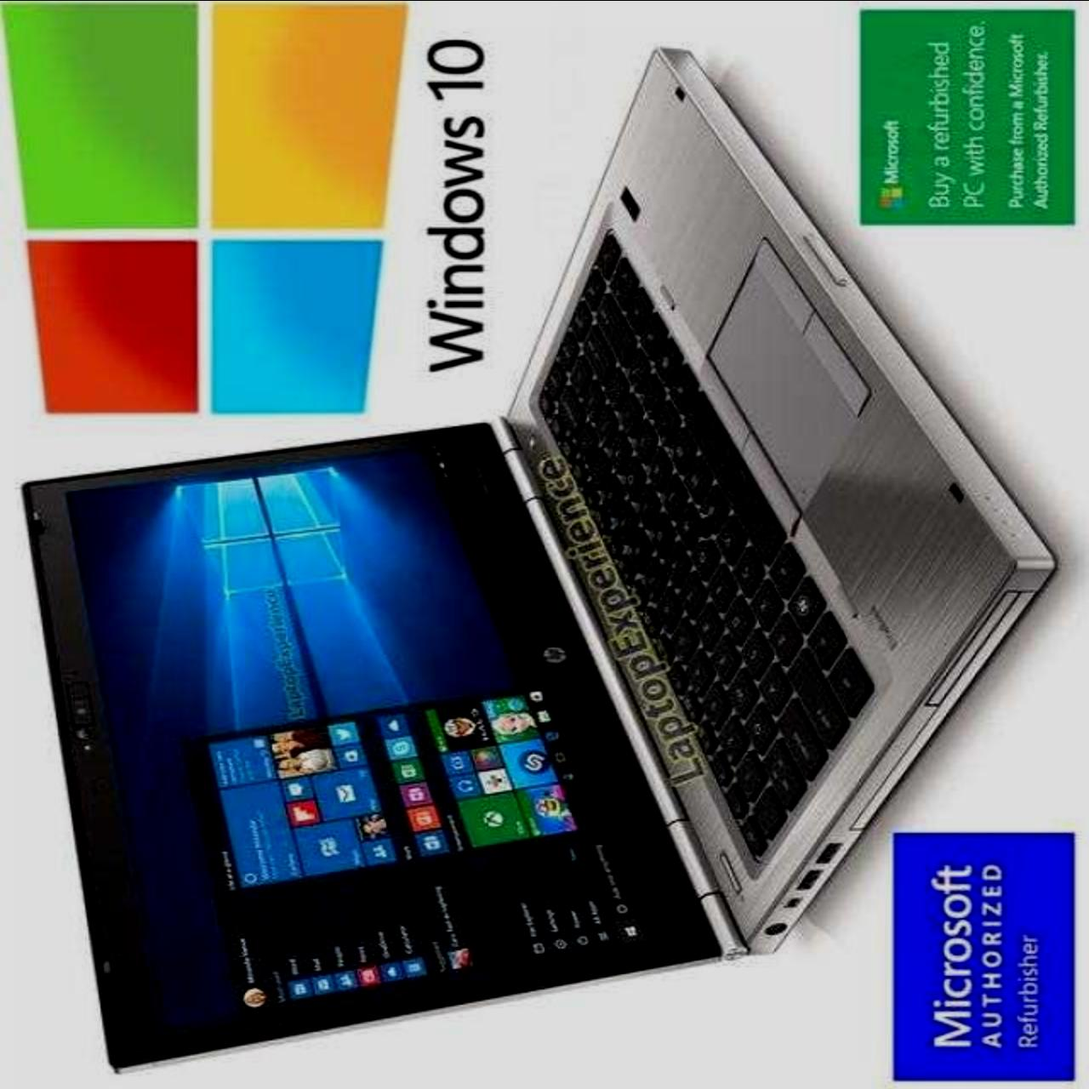laptop: (66, 60, 955, 1074)
